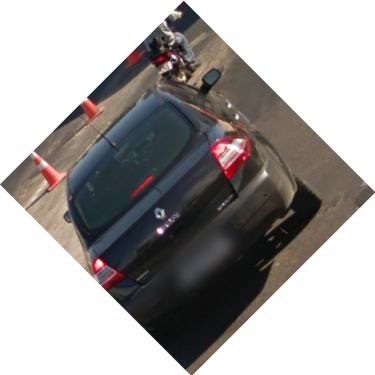car: (60, 72, 326, 313)
